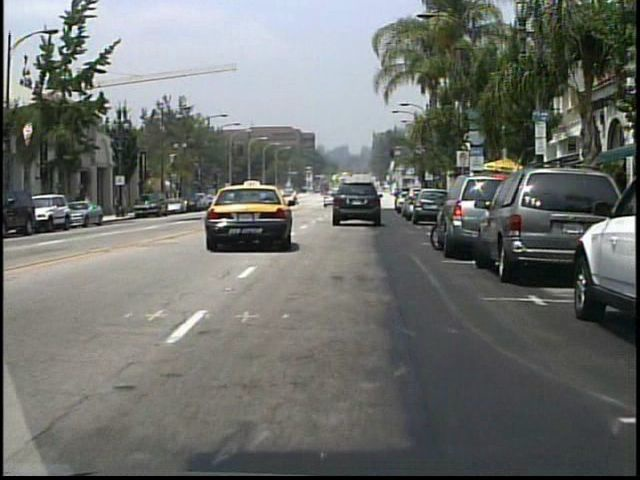person: (75, 188, 88, 219), (84, 191, 95, 219), (293, 189, 300, 202)
